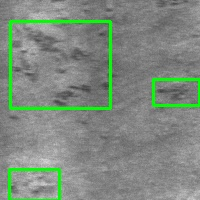rolled-in_scale: (10, 21, 110, 108), (9, 169, 59, 200), (153, 79, 199, 105)
